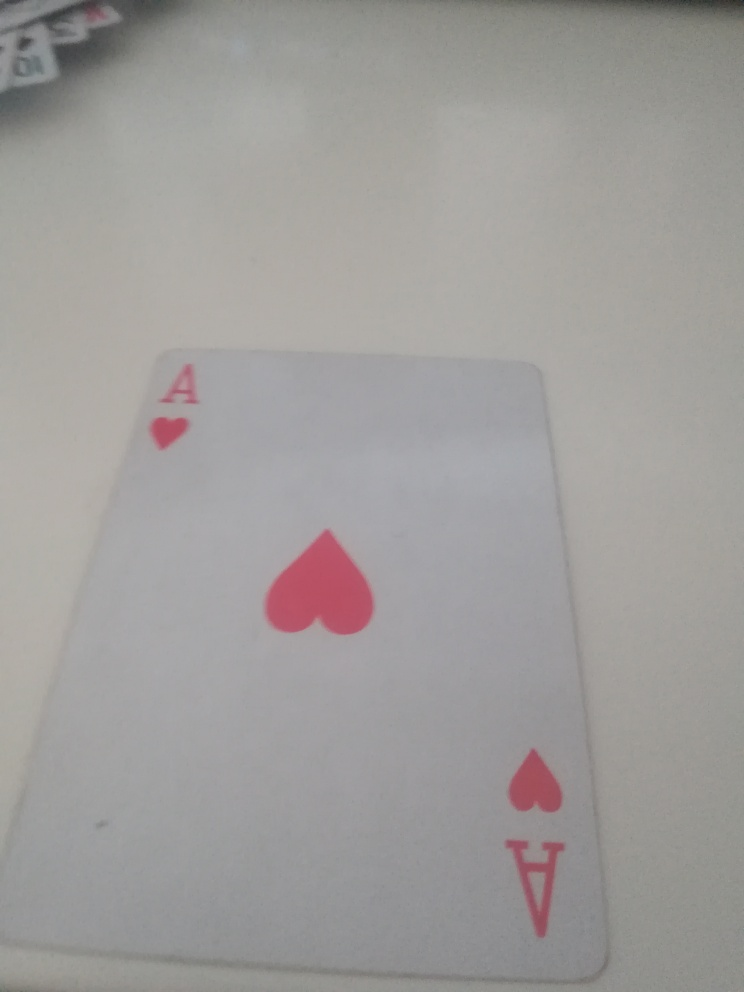AH: (139, 356, 212, 457)
